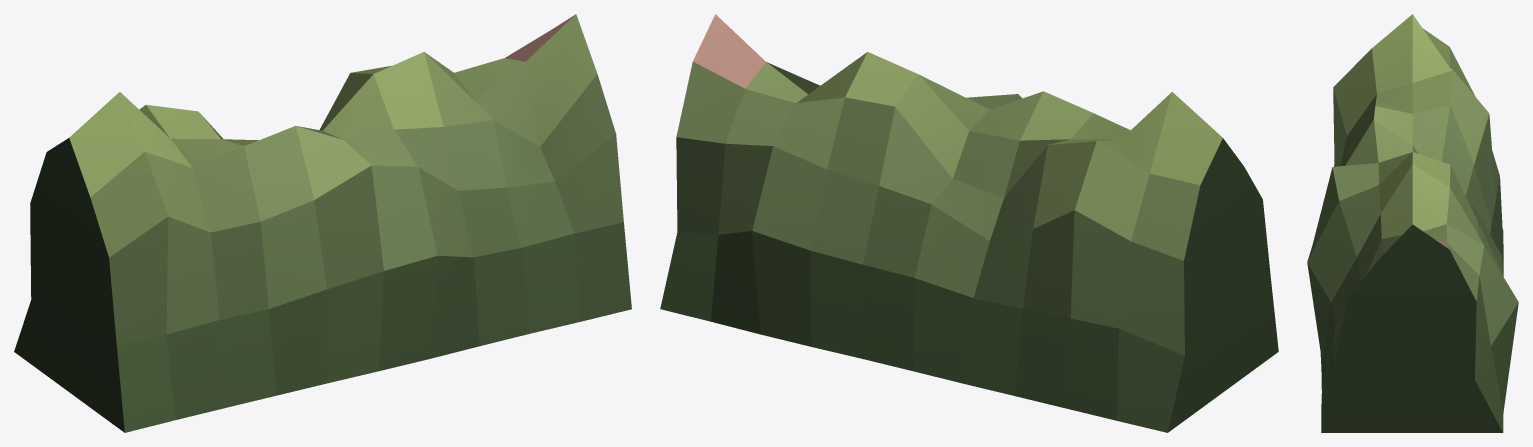
The model's file is haie.glb.
3 renders of one model, left to right at view 1: azimuth 30°, elevation 25°; view 2: azimuth 150°, elevation 25°; view 3: azimuth 270°, elevation 25°, orthographic. The views are drawn at different scales.
Visible parts, largest first — view 1: haie; view 2: haie; view 3: haie.
Boxes of the visible parts, x1,y1,x2,y2 form: haie: (14, 14, 631, 432); haie: (660, 14, 1278, 432); haie: (1307, 14, 1518, 432).
Size of the model in its own units: 1 by 0.5431 by 0.4407.
